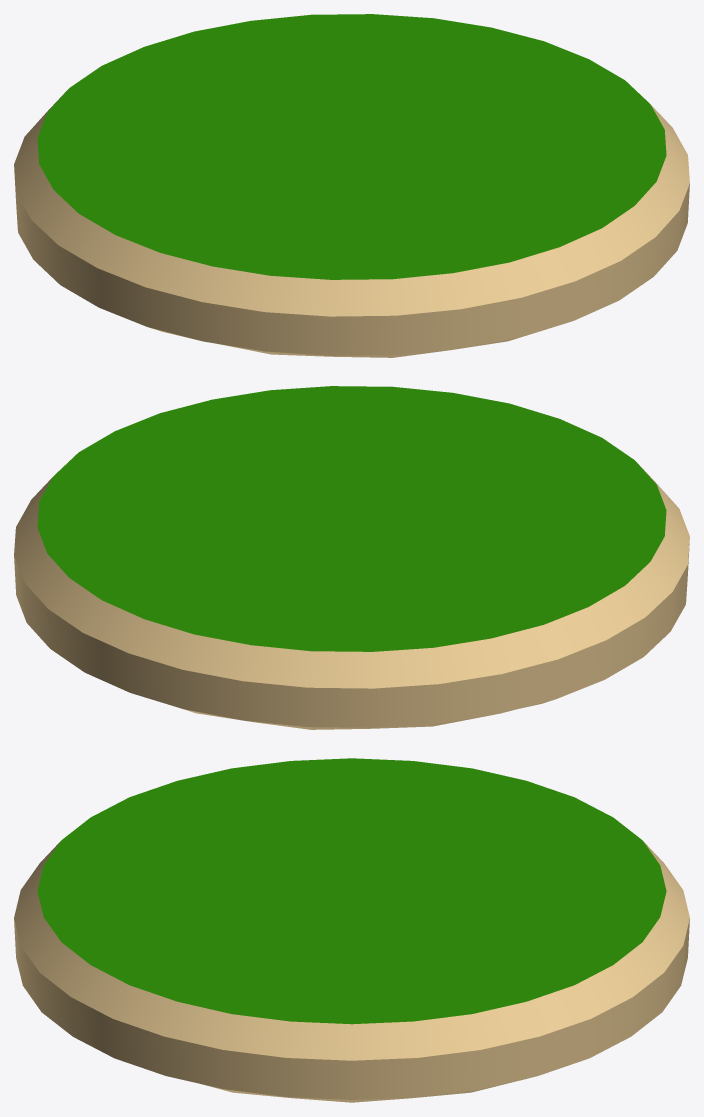
File: Isla_1.fbx
3 views of the same model, one above another, from view 1: azimuth 30°, elevation 25°; view 2: azimuth 150°, elevation 25°; view 3: azimuth 270°, elevation 25° (orthographic).
Visible parts, largest first — view 1: Cylinder.002; view 2: Cylinder.002; view 3: Cylinder.002.
Part boxes in pixels (box(x1,y1,x2,y2)): Cylinder.002: box(14, 14, 689, 357); Cylinder.002: box(14, 386, 689, 729); Cylinder.002: box(14, 758, 689, 1102).
Bounding box in the file's own units: 51.01 × 6.65 × 51.01.
